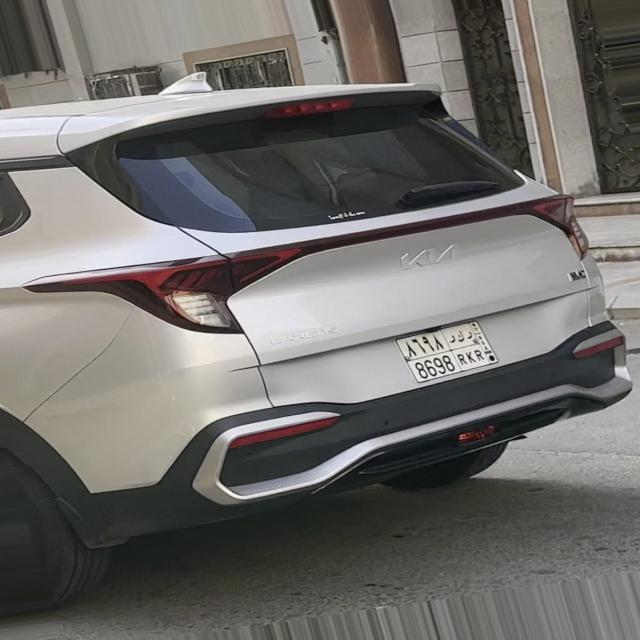Car-plate: (368, 311, 509, 391)
